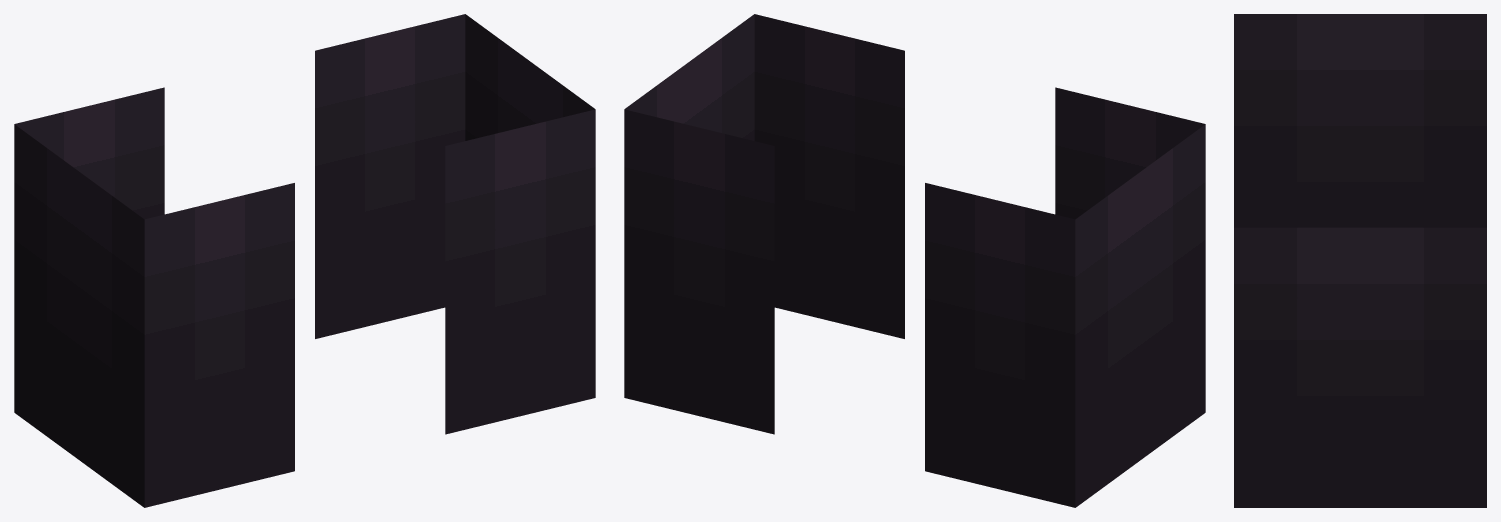
Rendered from shadowwalker_leggings.glb.
The picture shows the model from 3 angles, left to right: view 1: azimuth 30°, elevation 25°; view 2: azimuth 150°, elevation 25°; view 3: azimuth 270°, elevation 25°; orthographic projection. The views are drawn at different scales.
Bounding box in the file's own units: 0.5625 × 0.3438 × 0.2812.
1 material, 1 textured.
